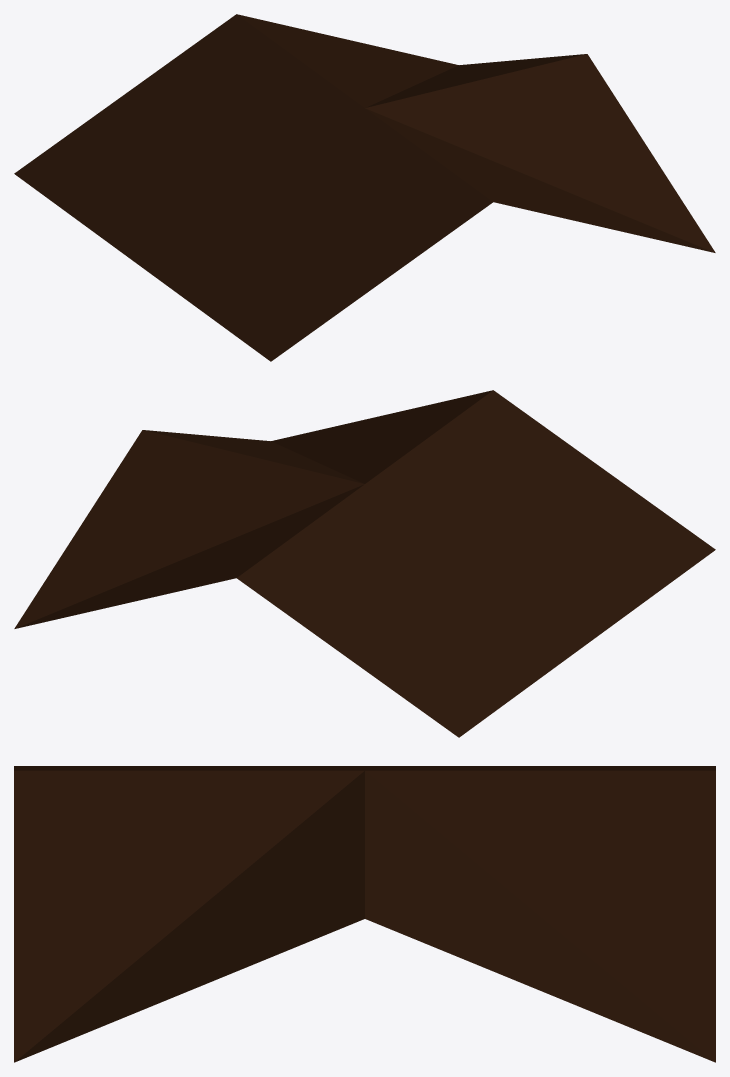
The model's file is Roof_01J.fbx.
3 renders of one model, top to bottom at view 1: azimuth 30°, elevation 25°; view 2: azimuth 150°, elevation 25°; view 3: azimuth 270°, elevation 25°, orthographic. The views are drawn at different scales.
Visible parts, largest first — view 1: Roof_01J; view 2: Roof_01J; view 3: Roof_01J.
Part boxes in pixels (x1=…): Roof_01J: x1=14, y1=14, x2=715, y2=361; Roof_01J: x1=14, y1=390, x2=715, y2=737; Roof_01J: x1=14, y1=766, x2=715, y2=1062.
Size of the model in its own units: 300 by 67.87 by 300.
